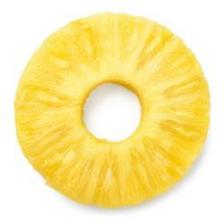yellow: (15, 13, 211, 207)
